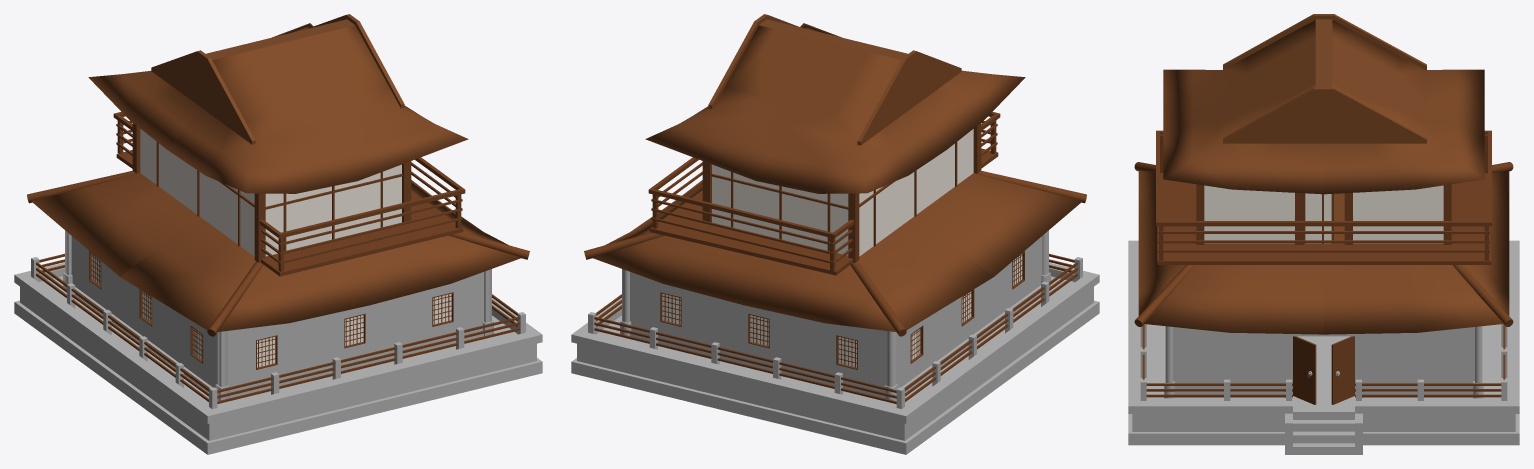
File: Asian Buildings.glb
3 renders of one model, left to right at view 1: azimuth 30°, elevation 25°; view 2: azimuth 150°, elevation 25°; view 3: azimuth 270°, elevation 25°, orthographic.
Parts seen in each view (by area): view 1: Six-Sided Lofted Projector (×2), Extrusion Spline (×5), Spline (×12), Cube (×2), List, Cylindrical Lathe (×2); view 2: Six-Sided Lofted Projector (×2), Extrusion Spline (×5), Spline (×12), Cube (×2), List, Cylindrical Lathe (×2); view 3: Six-Sided Lofted Projector (×2), Extrusion Spline (×5), Spline (×11), Cube (×8), Cylindrical Lathe (×2), List.
Part boxes in pixels (left/top/right/bottom): Six-Sided Lofted Projector (×2): left=31, top=19, right=521, bottom=331; Extrusion Spline (×5): left=14, top=14, right=542, bottom=454; Spline (×12): left=27, top=111, right=529, bottom=403; Cube (×2): left=39, top=193, right=517, bottom=407; List: left=75, top=287, right=483, bottom=397; Cylindrical Lathe (×2): left=215, top=269, right=493, bottom=400; Six-Sided Lofted Projector (×2): left=592, top=19, right=1082, bottom=331; Extrusion Spline (×5): left=571, top=14, right=1099, bottom=454; Spline (×12): left=584, top=111, right=1086, bottom=403; Cube (×2): left=596, top=193, right=1074, bottom=407; List: left=630, top=285, right=1040, bottom=397; Cylindrical Lathe (×2): left=620, top=269, right=898, bottom=400; Six-Sided Lofted Projector (×2): left=1138, top=19, right=1509, bottom=334; Extrusion Spline (×5): left=1128, top=14, right=1519, bottom=454; Spline (×11): left=1134, top=130, right=1513, bottom=397; Cube (×8): left=1140, top=184, right=1507, bottom=408; Cylindrical Lathe (×2): left=1164, top=326, right=1483, bottom=398; List: left=1174, top=391, right=1473, bottom=397.
Size of the model in its own units: 10.05 by 8.32 by 9.5.
